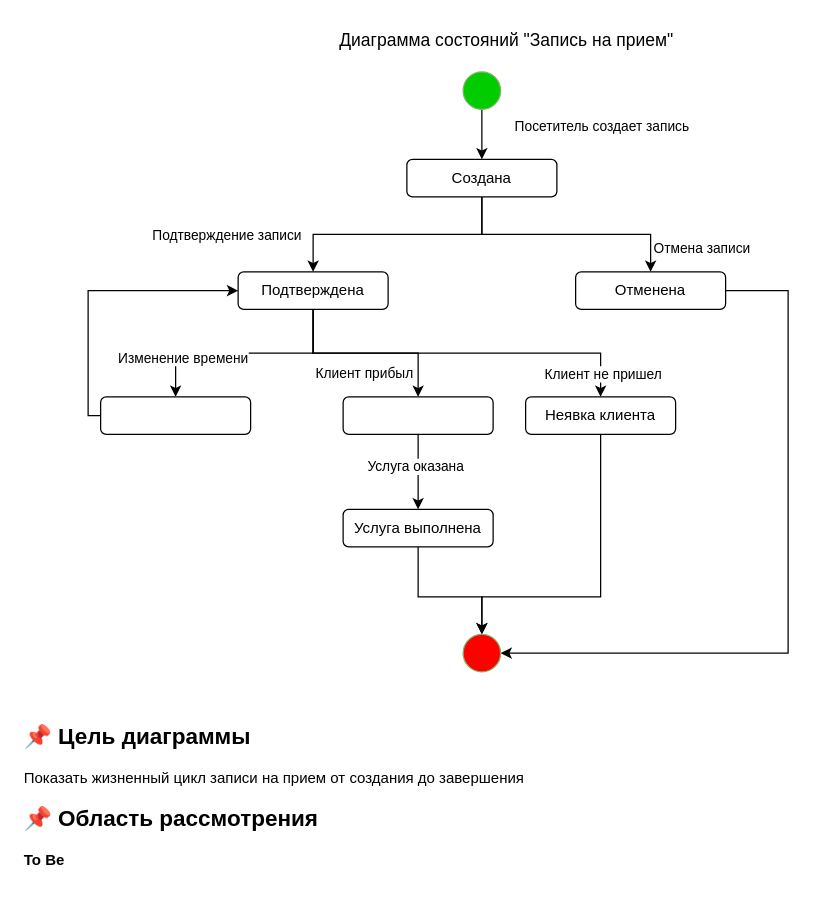
The diagram is 820 pixels wide and 906 high, and some of its shapes have lost their labels. The centre of each missing label's shape, as x and y in pixels:
"В процессе обслуживания" goes at point 417,415.
"Перенесена" goes at point 175,415.
